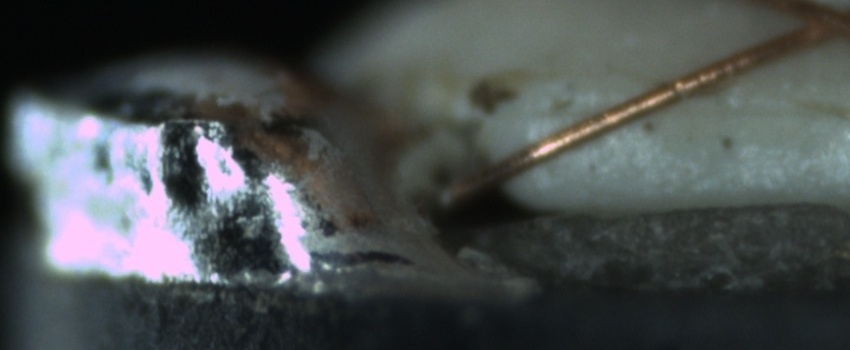CL: (773, 2, 845, 46)
